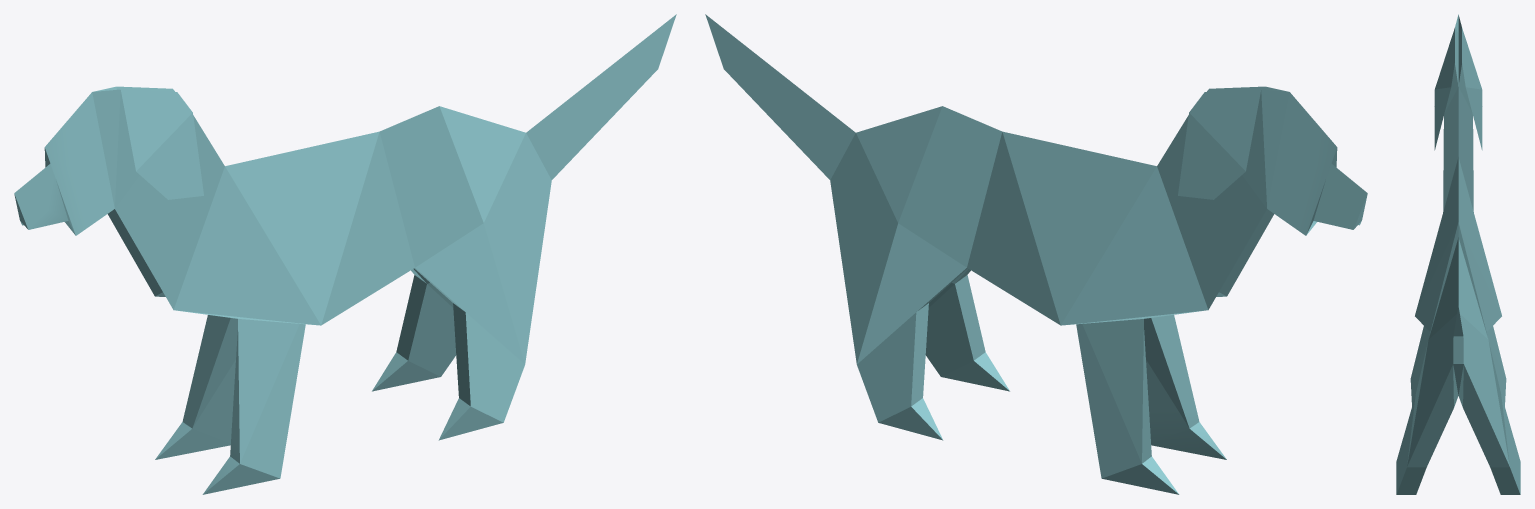
Rendered from Dog.fbx.
3 renders of one model, left to right at view 1: azimuth 30°, elevation 25°; view 2: azimuth 150°, elevation 25°; view 3: azimuth 270°, elevation 25°, orthographic. The views are drawn at different scales.
Parts seen in each view (by area): view 1: Dog; view 2: Dog; view 3: Dog.
Boxes of the visible parts, box(x1,y1,x2,y2) form: Dog: box(14, 14, 676, 494); Dog: box(705, 14, 1367, 494); Dog: box(1396, 14, 1520, 494).
Size of the model in its own units: 250 by 146 by 48.65.
